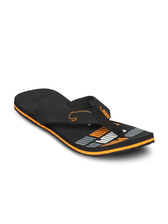shoes: (7, 87, 159, 158)
